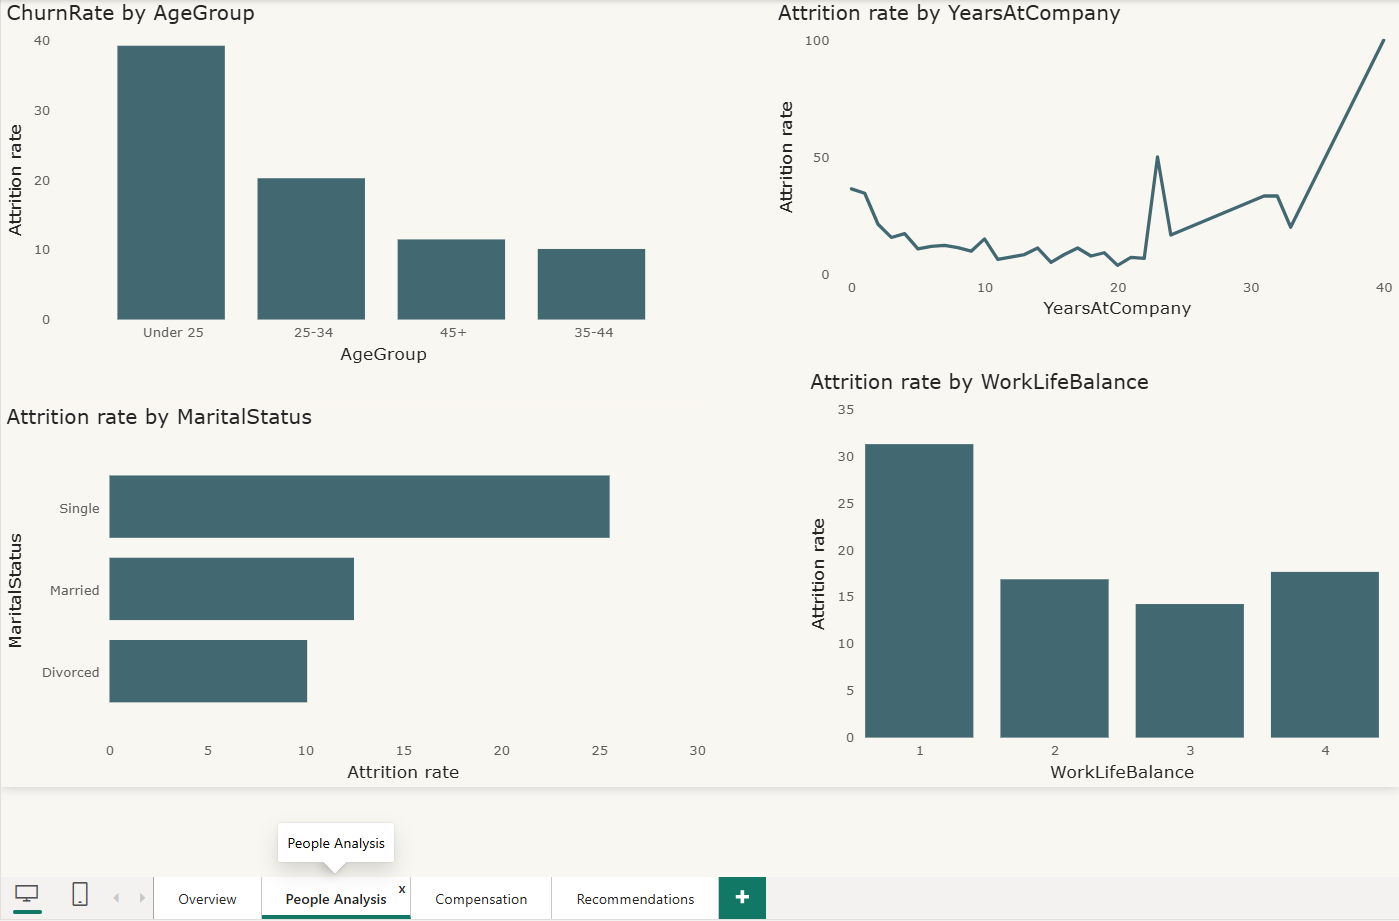

This screenshot's page, from the dashboard's own definition file:
{"tool":"powerbi","page":{"name":"People Analysis","canvas":[1280,720],"ordinal":1},"visuals":[{"type":"clusteredColumnChart","title":"ChurnRate by AgeGroup","fields":{"Category":["Hr_Analytics.AgeGroup"],"Y":["_Measures.ChurnRate"]},"box":[0,0,649.7,337.5],"z":0},{"type":"clusteredBarChart","fields":{"Category":["Hr_Analytics.MaritalStatus"],"Y":["_Measures.ChurnRate"]},"box":[0,369.2,649.7,350.6],"z":1000},{"type":"lineChart","fields":{"Category":["Hr_Analytics.YearsAtCompany"],"Y":["_Measures.Attrition rate"]},"box":[705.6,0,574.1,295.8],"z":2000},{"type":"columnChart","fields":{"Category":["Hr_Analytics.WorkLifeBalance"],"Y":["_Measures.Attrition rate"]},"box":[735.2,337.5,530.3,382.4],"z":3000}]}

Visuals, with their boxes on the page's 1280x720 design canvas (x1, y1, x2, y2). These are canvas units, not pixel positions in the 1399x921 screenshot, which may show the page scaled, cropped or inside an application window:
"ChurnRate by AgeGroup" clusteredColumnChart: pyautogui.locateOnScreen(0, 0, 650, 338)
clusteredBarChart - Hr_Analytics.MaritalStatus x _Measures.ChurnRate: pyautogui.locateOnScreen(0, 369, 650, 720)
lineChart - Hr_Analytics.YearsAtCompany x _Measures.Attrition rate: pyautogui.locateOnScreen(706, 0, 1280, 296)
columnChart - Hr_Analytics.WorkLifeBalance x _Measures.Attrition rate: pyautogui.locateOnScreen(735, 338, 1266, 720)
